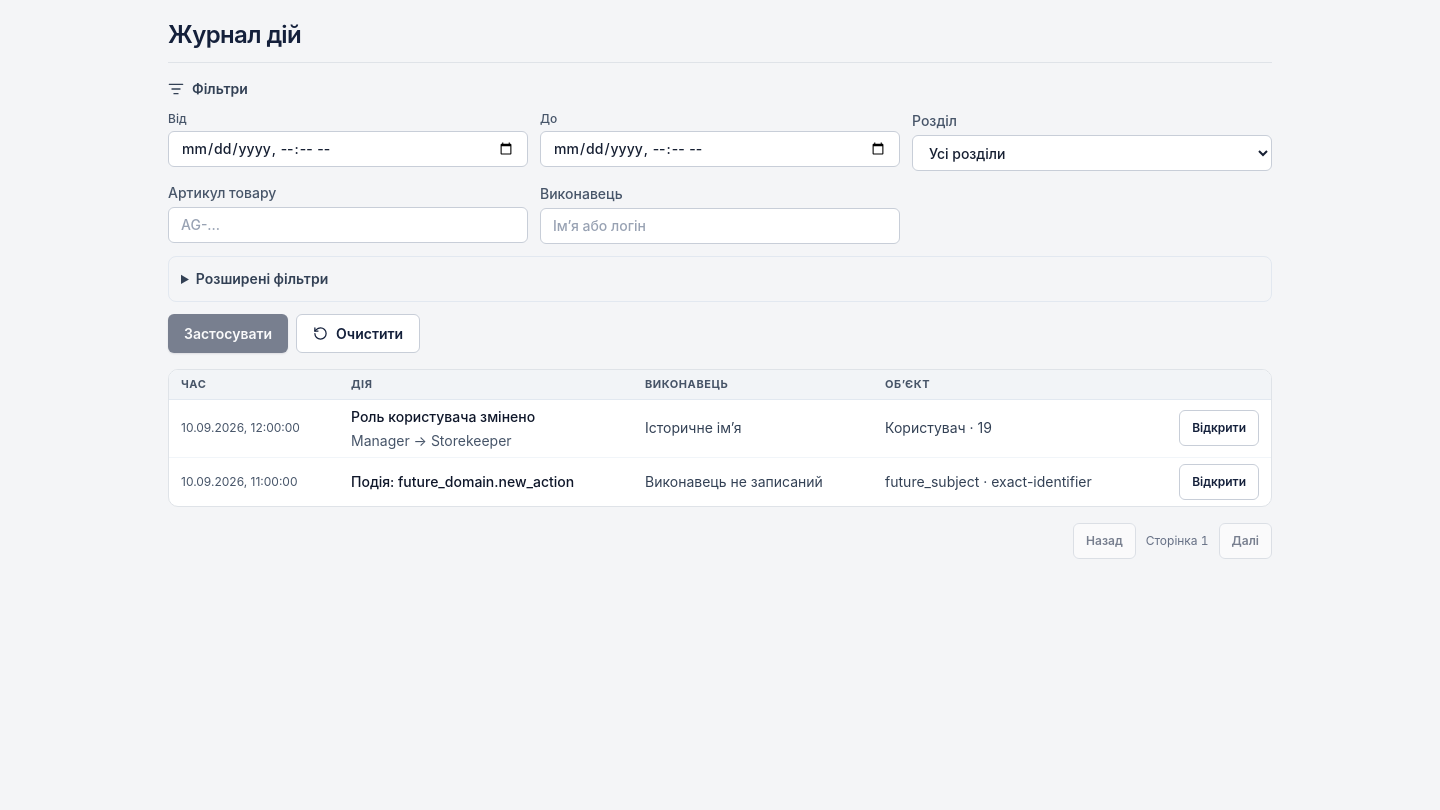
global audit viewer › renders known and future keys, immutable actors, details, and explicit missing attribution
This screenshot has width=1440, height=810.
Expected: the text "Роль користувача змінено" is shown, [351,408,535,424]
Expected: the text "Історичне ім’я" is shown, [633,399,873,457]
Click the button with aria-label "Відкрити деталі: Подія: future_domain.new_action": [1219, 482] box [1179,464,1259,500]
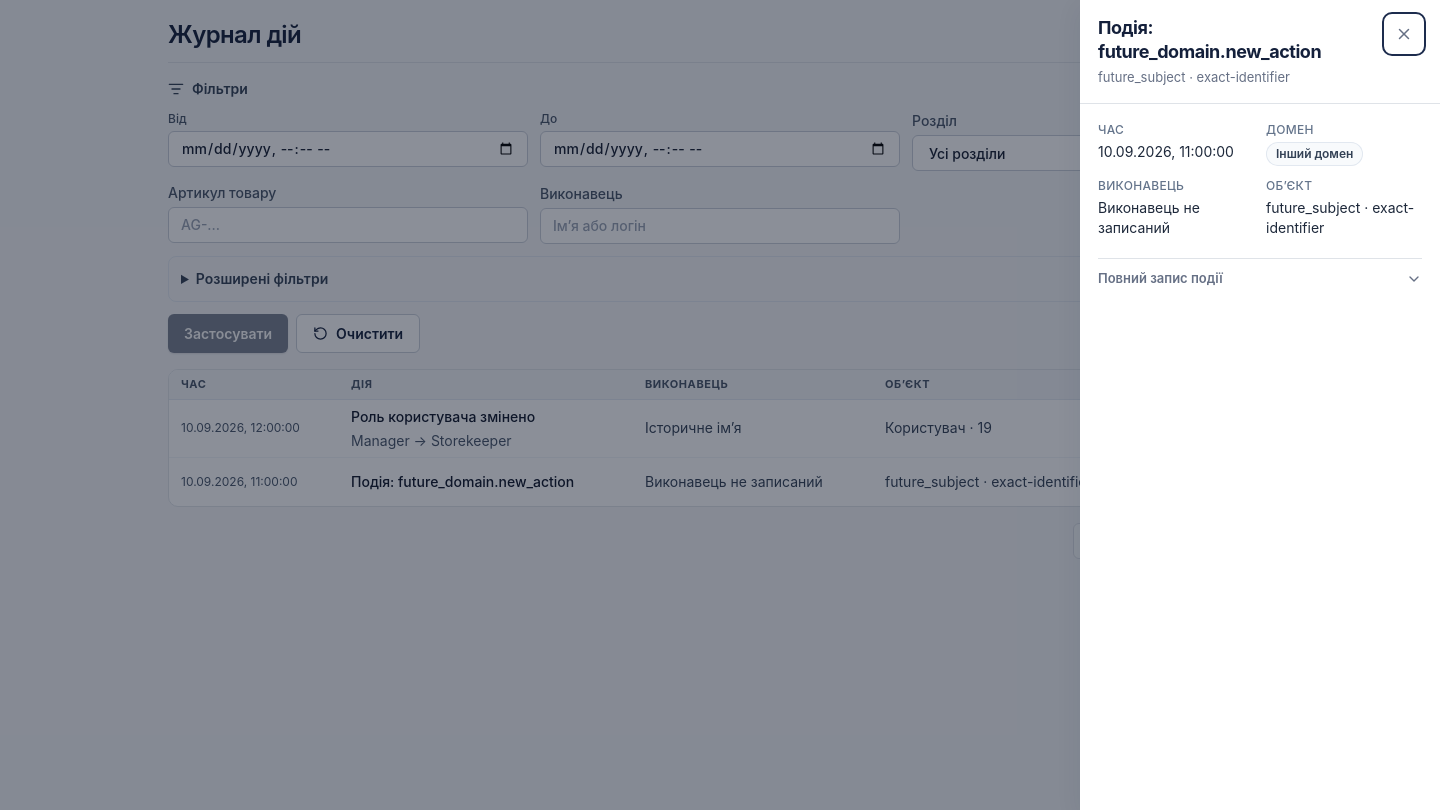
Click the heading "Повний запис події": [1160, 278] box [1098,270,1422,287]
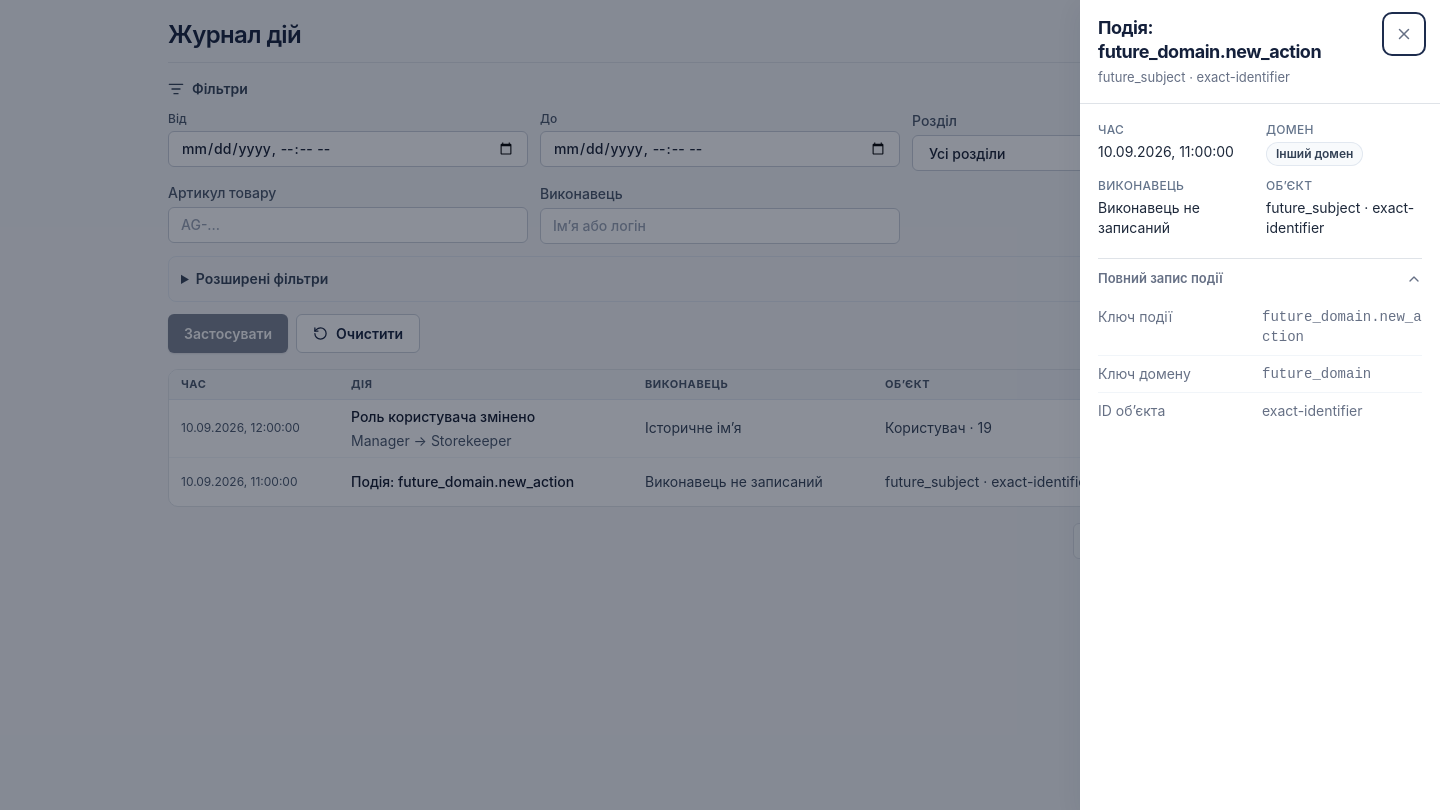
Expected: the text "future_domain.new_action" is shown, [1262,307,1422,347]
Click the button named "Закрити": [1404, 34] box [1386,16,1422,52]
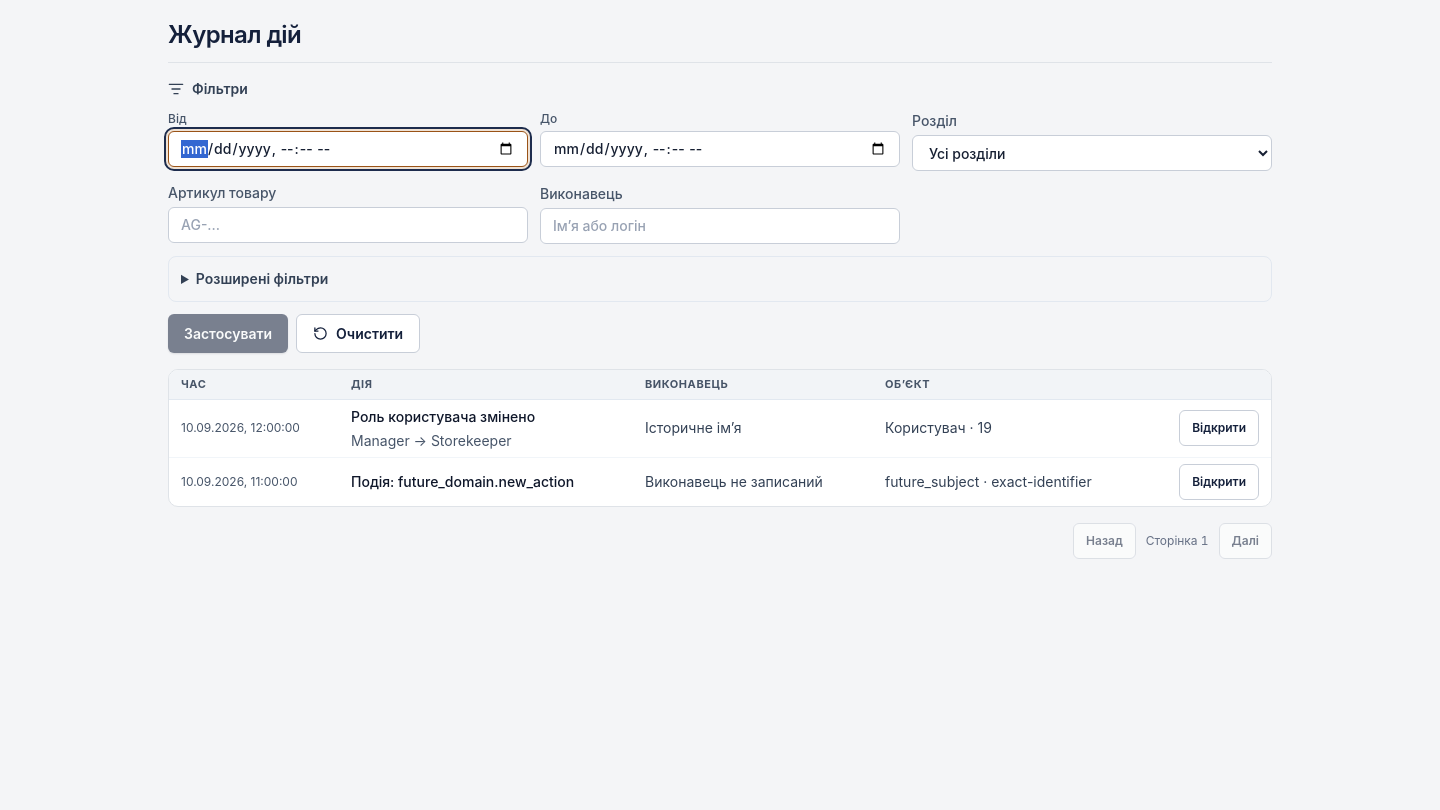
Click the button with aria-label "Відкрити деталі: Роль користувача змінено": [1219, 428] box [1179,410,1259,446]
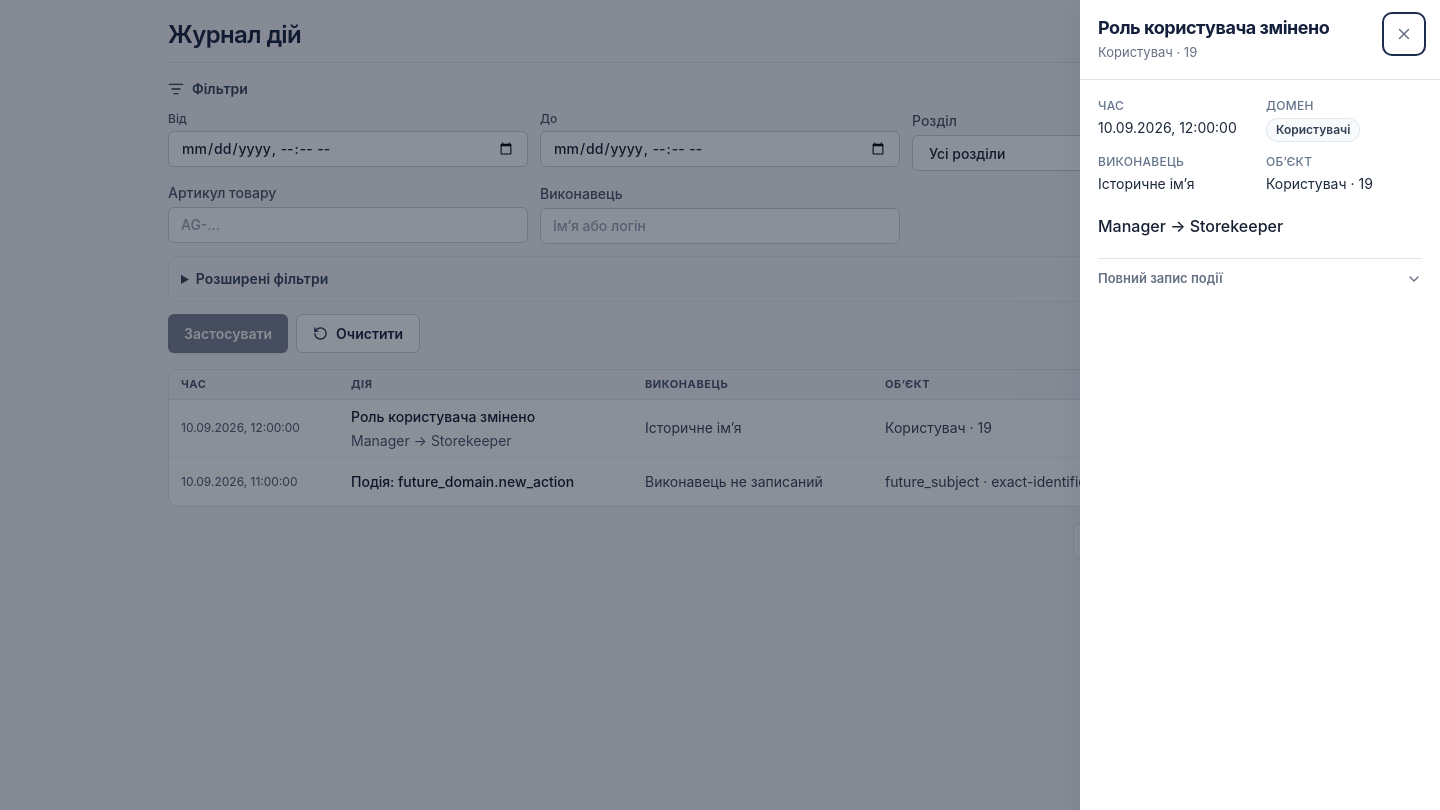
Expected: the text "Manager → Storekeeper" is shown, [1098,216,1283,236]
